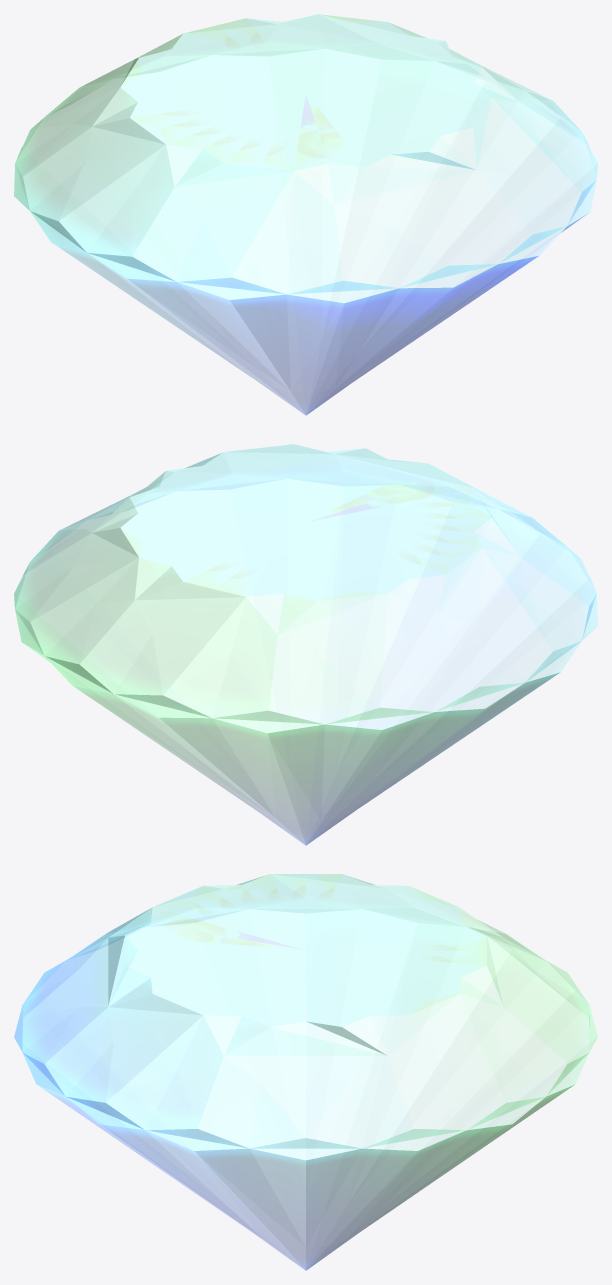
The model's file is diamond_14.glb.
3 views of the same model, one above another, from view 1: azimuth 30°, elevation 25°; view 2: azimuth 150°, elevation 25°; view 3: azimuth 270°, elevation 25° (orthographic).
Visible parts, largest first — view 1: pCone1_DiamondOutside_0.001; view 2: pCone1_DiamondOutside_0.001; view 3: pCone1_DiamondOutside_0.001.
Boxes of the visible parts, box(x1,y1,x2,y2) form: pCone1_DiamondOutside_0.001: box(14, 14, 597, 415); pCone1_DiamondOutside_0.001: box(14, 444, 597, 845); pCone1_DiamondOutside_0.001: box(14, 874, 597, 1270).
Bounding box in the file's own units: 2 × 1.21 × 2.
Materials: 1 (1 with a texture image).
